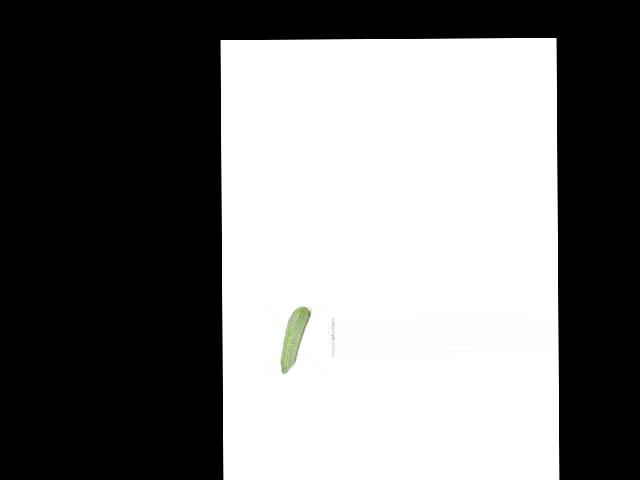cucumber: (280, 307, 310, 375)
